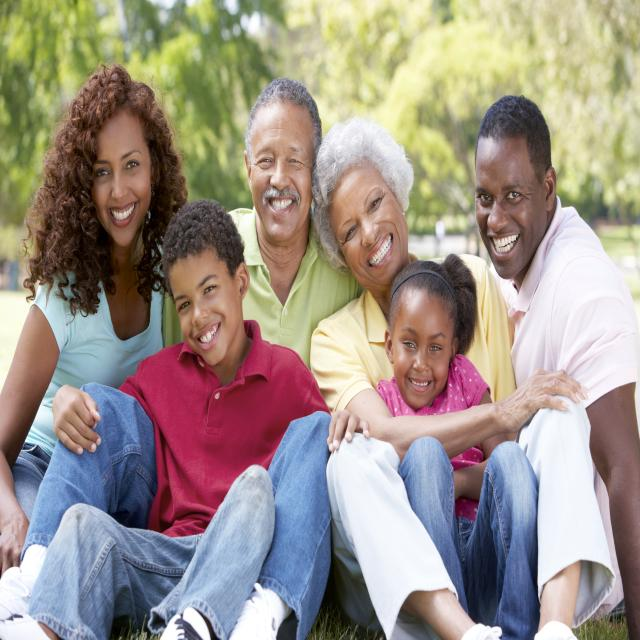adult: (311, 108, 613, 640), (1, 65, 187, 633), (475, 91, 640, 639), (172, 78, 368, 376)
child: (36, 201, 308, 640), (366, 256, 538, 640)
